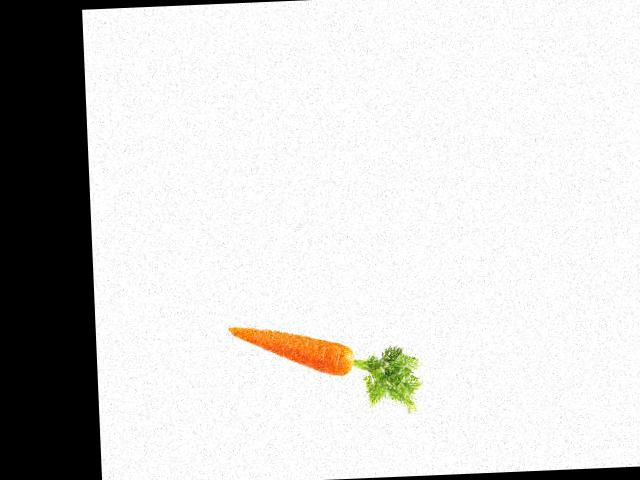carrot: (219, 309, 356, 384)
